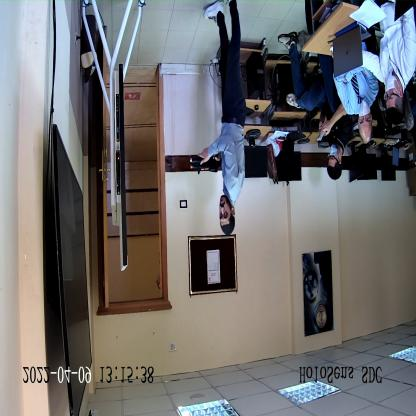handgun: (192, 150, 223, 176)
